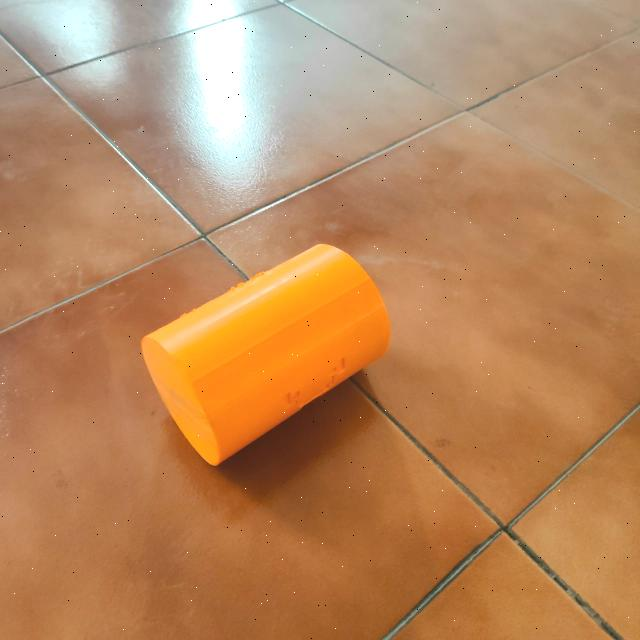Cylinder: (140, 241, 392, 467)
